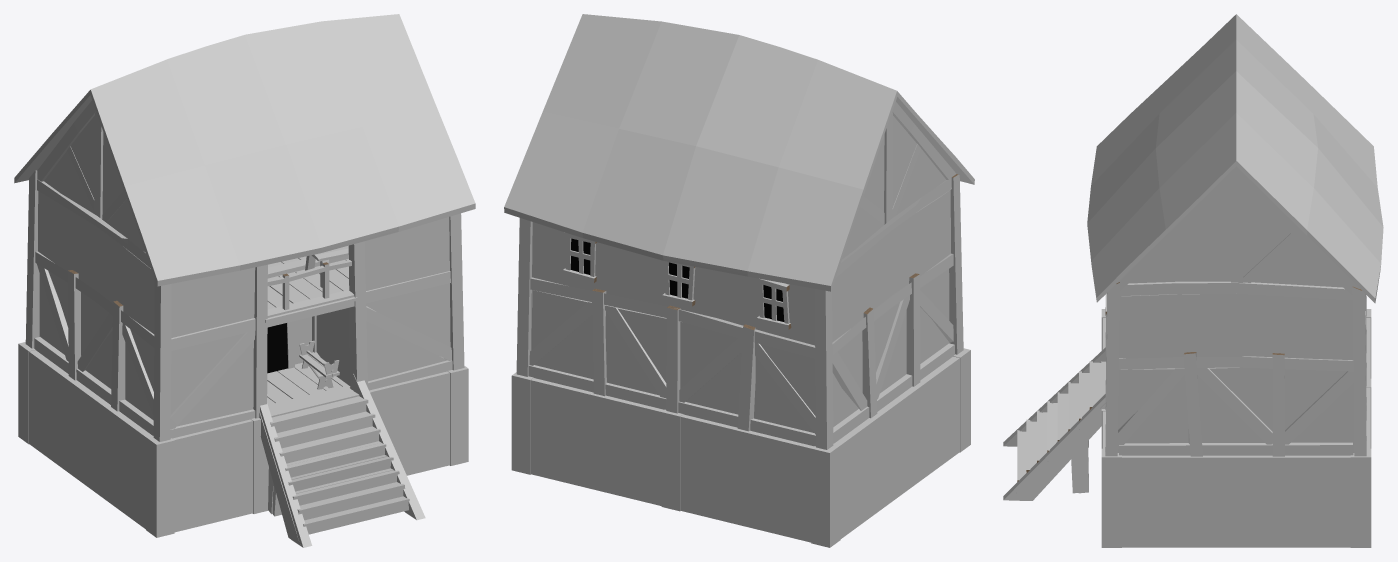
The model's file is JoinerWorkshop1.fbx.
3 renders of one model, left to right at view 1: azimuth 30°, elevation 25°; view 2: azimuth 150°, elevation 25°; view 3: azimuth 270°, elevation 25°, orthographic. The views are drawn at different scales.
Visible parts, largest first — view 1: Roof.001, Post.001, Foundation.001, Wall.002, Wall.001, Stair.001, Footing.001, step_2.001, Floor.003, Floor.001, Railing.001, DoorOpening.001 (+1 smaller); view 2: Roof.001, Foundation.001, Post.001, Wall.002, Wall.001, Footing.001, WindowFrame.002, WindowGap.001; view 3: Roof.001, Post.001, Foundation.001, Wall.002, Wall.001, Stair.001, Footing.001, step_2.001.
Part boxes in pixels (x1,y1,x2,y2): Roof.001: (14, 14, 475, 286); Post.001: (25, 100, 464, 441); Foundation.001: (29, 350, 449, 532); Wall.002: (39, 115, 450, 426); Wall.001: (38, 191, 449, 337); Stair.001: (260, 374, 425, 547); Footing.001: (18, 342, 468, 537); step_2.001: (259, 378, 404, 545); Floor.003: (267, 256, 349, 309); Floor.001: (267, 362, 350, 404); Railing.001: (267, 260, 351, 310); DoorOpening.001: (267, 323, 287, 373); Roof.001: (504, 14, 974, 291); Foundation.001: (530, 356, 959, 542); Post.001: (516, 101, 963, 449); Wall.002: (531, 116, 949, 432); Wall.001: (532, 190, 950, 345); Footing.001: (511, 348, 970, 547); WindowFrame.002: (562, 232, 791, 329); WindowGap.001: (570, 238, 784, 321); Roof.001: (1087, 14, 1383, 303); Post.001: (1105, 166, 1366, 456); Foundation.001: (1103, 318, 1370, 547); Wall.002: (1117, 182, 1354, 452); Wall.001: (1119, 294, 1353, 360); Stair.001: (1003, 347, 1106, 500); Footing.001: (1101, 309, 1371, 547); step_2.001: (1010, 380, 1105, 500).
Size of what is drawn, in the model's own units: 949 by 1112 by 899.
